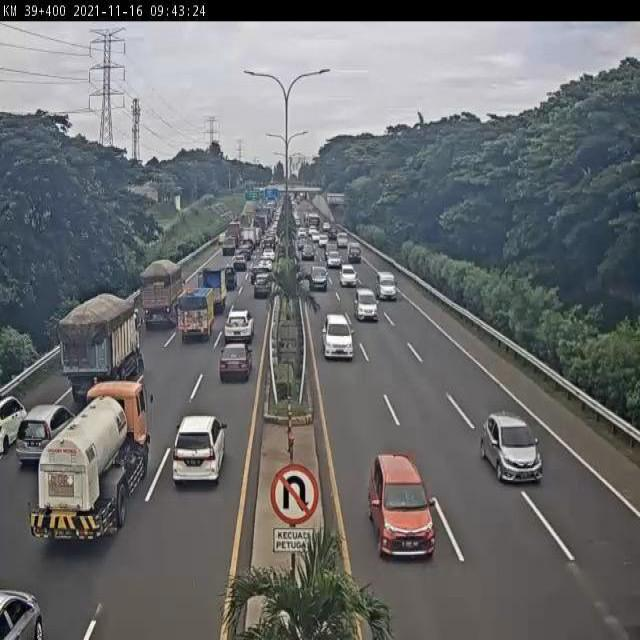car: (360, 440, 447, 568), (471, 406, 554, 494), (171, 420, 224, 503), (0, 576, 67, 640), (14, 398, 69, 474), (317, 311, 356, 369), (0, 384, 33, 448), (214, 341, 257, 387), (220, 304, 260, 341), (353, 285, 382, 327), (374, 270, 402, 302), (222, 263, 242, 300), (324, 248, 346, 273), (299, 242, 318, 266), (253, 276, 272, 300), (310, 261, 326, 287), (345, 243, 366, 261), (217, 237, 237, 255), (341, 264, 355, 285), (252, 263, 268, 281), (234, 256, 246, 272)
truck-l-: (56, 291, 147, 397), (136, 257, 190, 331)
truck-m-: (29, 372, 155, 557), (177, 281, 219, 355), (197, 264, 229, 311)
